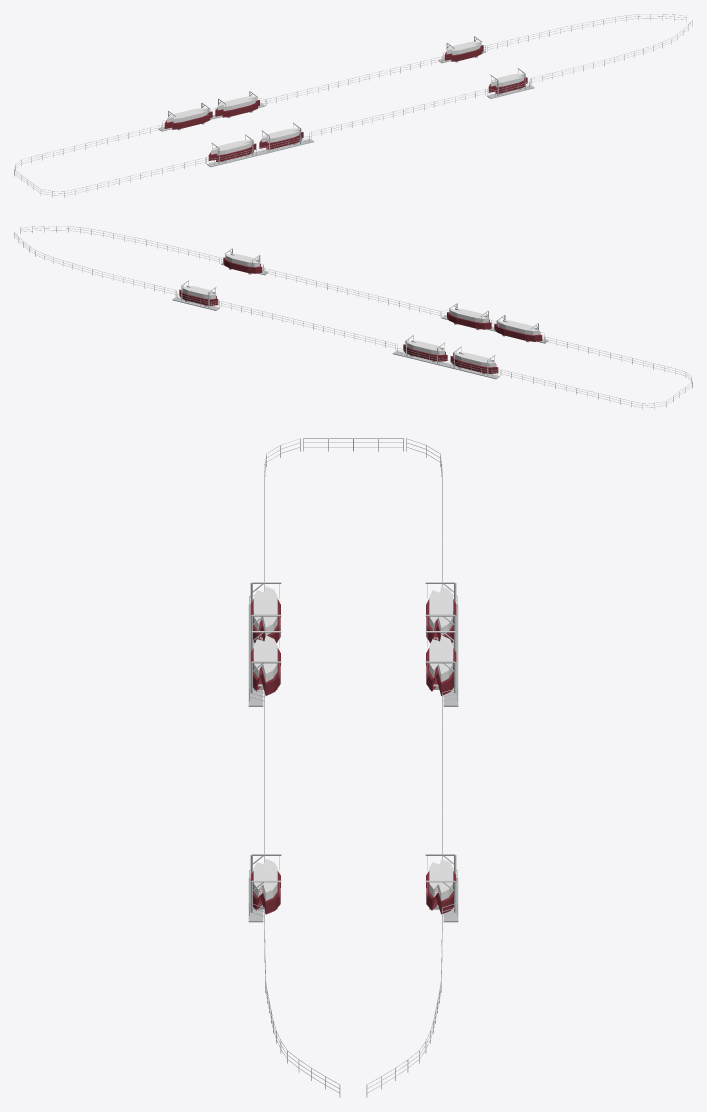
File: ВГ-2026.15.00_шлюпочный_пост.glb
3 views of the same model, one above another, from view 1: azimuth 30°, elevation 25°; view 2: azimuth 150°, elevation 25°; view 3: azimuth 270°, elevation 25° (orthographic). The views are drawn at different scales.
Parts seen in each view (by area): view 1: леер_шлюп_п_5, леер_шлюп_л_3, леер_шлюп_п_3, леер_шлюп_л_1, леер_шлюп_л_5, леер_шлюп_п_1, спонсон_лаундж_л, шлюпка_кормовая_п_рубка, шлюпка_кормовая_л_рубка, шлюпка_средняя_п_рубка, шлюпка_кормовая_п_корпус, шлюпка_средняя_л_рубка (+7 smaller); view 2: леер_шлюп_л_5, леер_шлюп_п_3, леер_шлюп_л_3, леер_шлюп_п_1, леер_шлюп_п_5, леер_шлюп_л_1, спонсон_лаундж_п, шлюпка_кормовая_л_рубка, шлюпка_кормовая_п_рубка, шлюпка_средняя_л_рубка, шлюпка_средняя_п_рубка, шлюпка_кормовая_л_корпус (+6 smaller); view 3: no part large enough to name.
Boxes of the visible parts, bbox=[...] form: леер_шлюп_п_5: bbox=[487, 14, 686, 51]; леер_шлюп_л_3: bbox=[311, 89, 485, 137]; леер_шлюп_п_3: bbox=[266, 56, 441, 105]; леер_шлюп_л_1: bbox=[40, 157, 205, 197]; леер_шлюп_л_5: bbox=[531, 20, 692, 84]; леер_шлюп_п_1: bbox=[14, 125, 161, 175]; спонсон_лаундж_л: bbox=[207, 138, 314, 167]; шлюпка_кормовая_п_рубка: bbox=[167, 108, 210, 122]; шлюпка_кормовая_л_рубка: bbox=[211, 140, 253, 155]; шлюпка_средняя_п_рубка: bbox=[217, 96, 257, 110]; шлюпка_кормовая_п_корпус: bbox=[164, 111, 212, 129]; шлюпка_средняя_л_рубка: bbox=[261, 128, 301, 142]; леер_шлюп_л_5: bbox=[20, 226, 219, 263]; леер_шлюп_п_3: bbox=[221, 301, 395, 349]; леер_шлюп_л_3: bbox=[265, 268, 440, 317]; леер_шлюп_п_1: bbox=[501, 369, 666, 409]; леер_шлюп_п_5: bbox=[14, 232, 175, 296]; леер_шлюп_л_1: bbox=[545, 337, 692, 387]; спонсон_лаундж_п: bbox=[392, 350, 499, 379]; шлюпка_кормовая_л_рубка: bbox=[496, 320, 539, 335]; шлюпка_кормовая_п_рубка: bbox=[453, 352, 495, 367]; шлюпка_средняя_л_рубка: bbox=[449, 308, 489, 322]; шлюпка_средняя_п_рубка: bbox=[405, 340, 445, 354]; шлюпка_кормовая_л_корпус: bbox=[494, 323, 542, 341].
Bounding box in the file's own units: 119 × 2.84 × 16.3.
